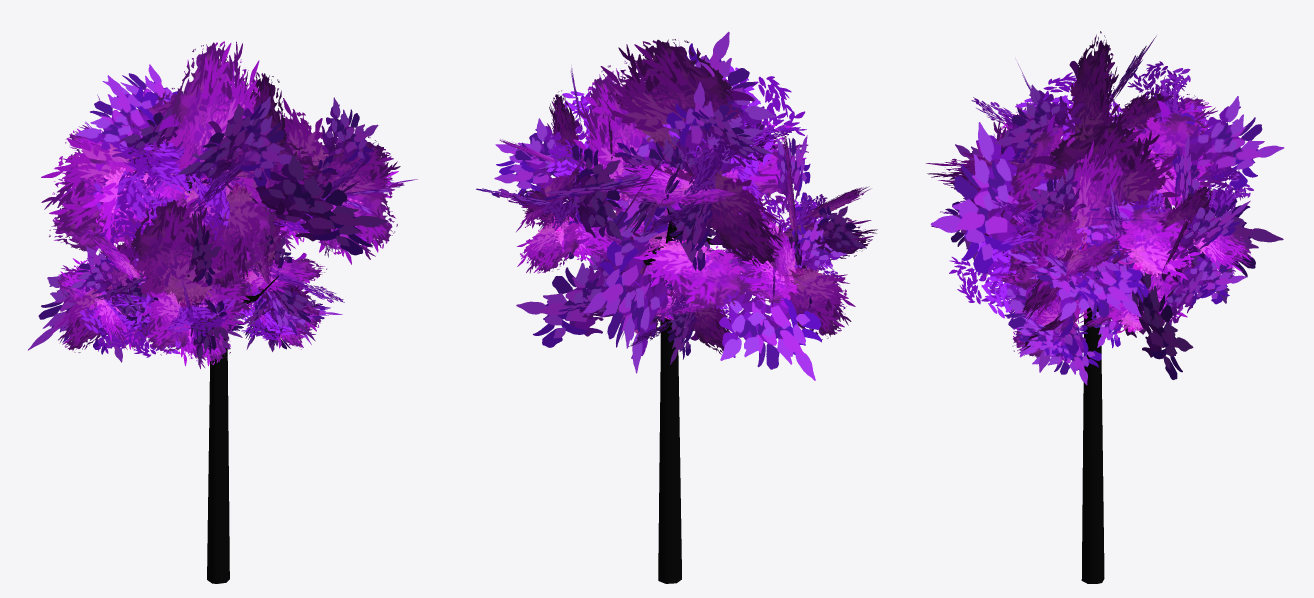
Rendered from purpletree1.fbx.
The picture shows the model from 3 angles, left to right: view 1: azimuth 30°, elevation 25°; view 2: azimuth 150°, elevation 25°; view 3: azimuth 270°, elevation 25°; orthographic projection. The views are drawn at different scales.
Parts seen in each view (by area): view 1: purpletree:polySurface1; view 2: purpletree:polySurface1; view 3: purpletree:polySurface1.
Part boxes in pixels (x1,y1,x2,y2): purpletree:polySurface1: (28,41,417,583); purpletree:polySurface1: (476,31,877,583); purpletree:polySurface1: (926,31,1284,583).
Size of the model in its own units: 28.1 by 40.11 by 24.84.
